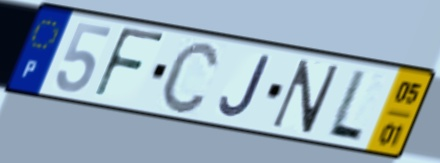5: (54, 19, 115, 94)
C: (158, 38, 222, 116)
F: (90, 24, 169, 103)
J: (217, 53, 273, 120)
L: (323, 66, 370, 145)
N: (267, 57, 343, 136)
